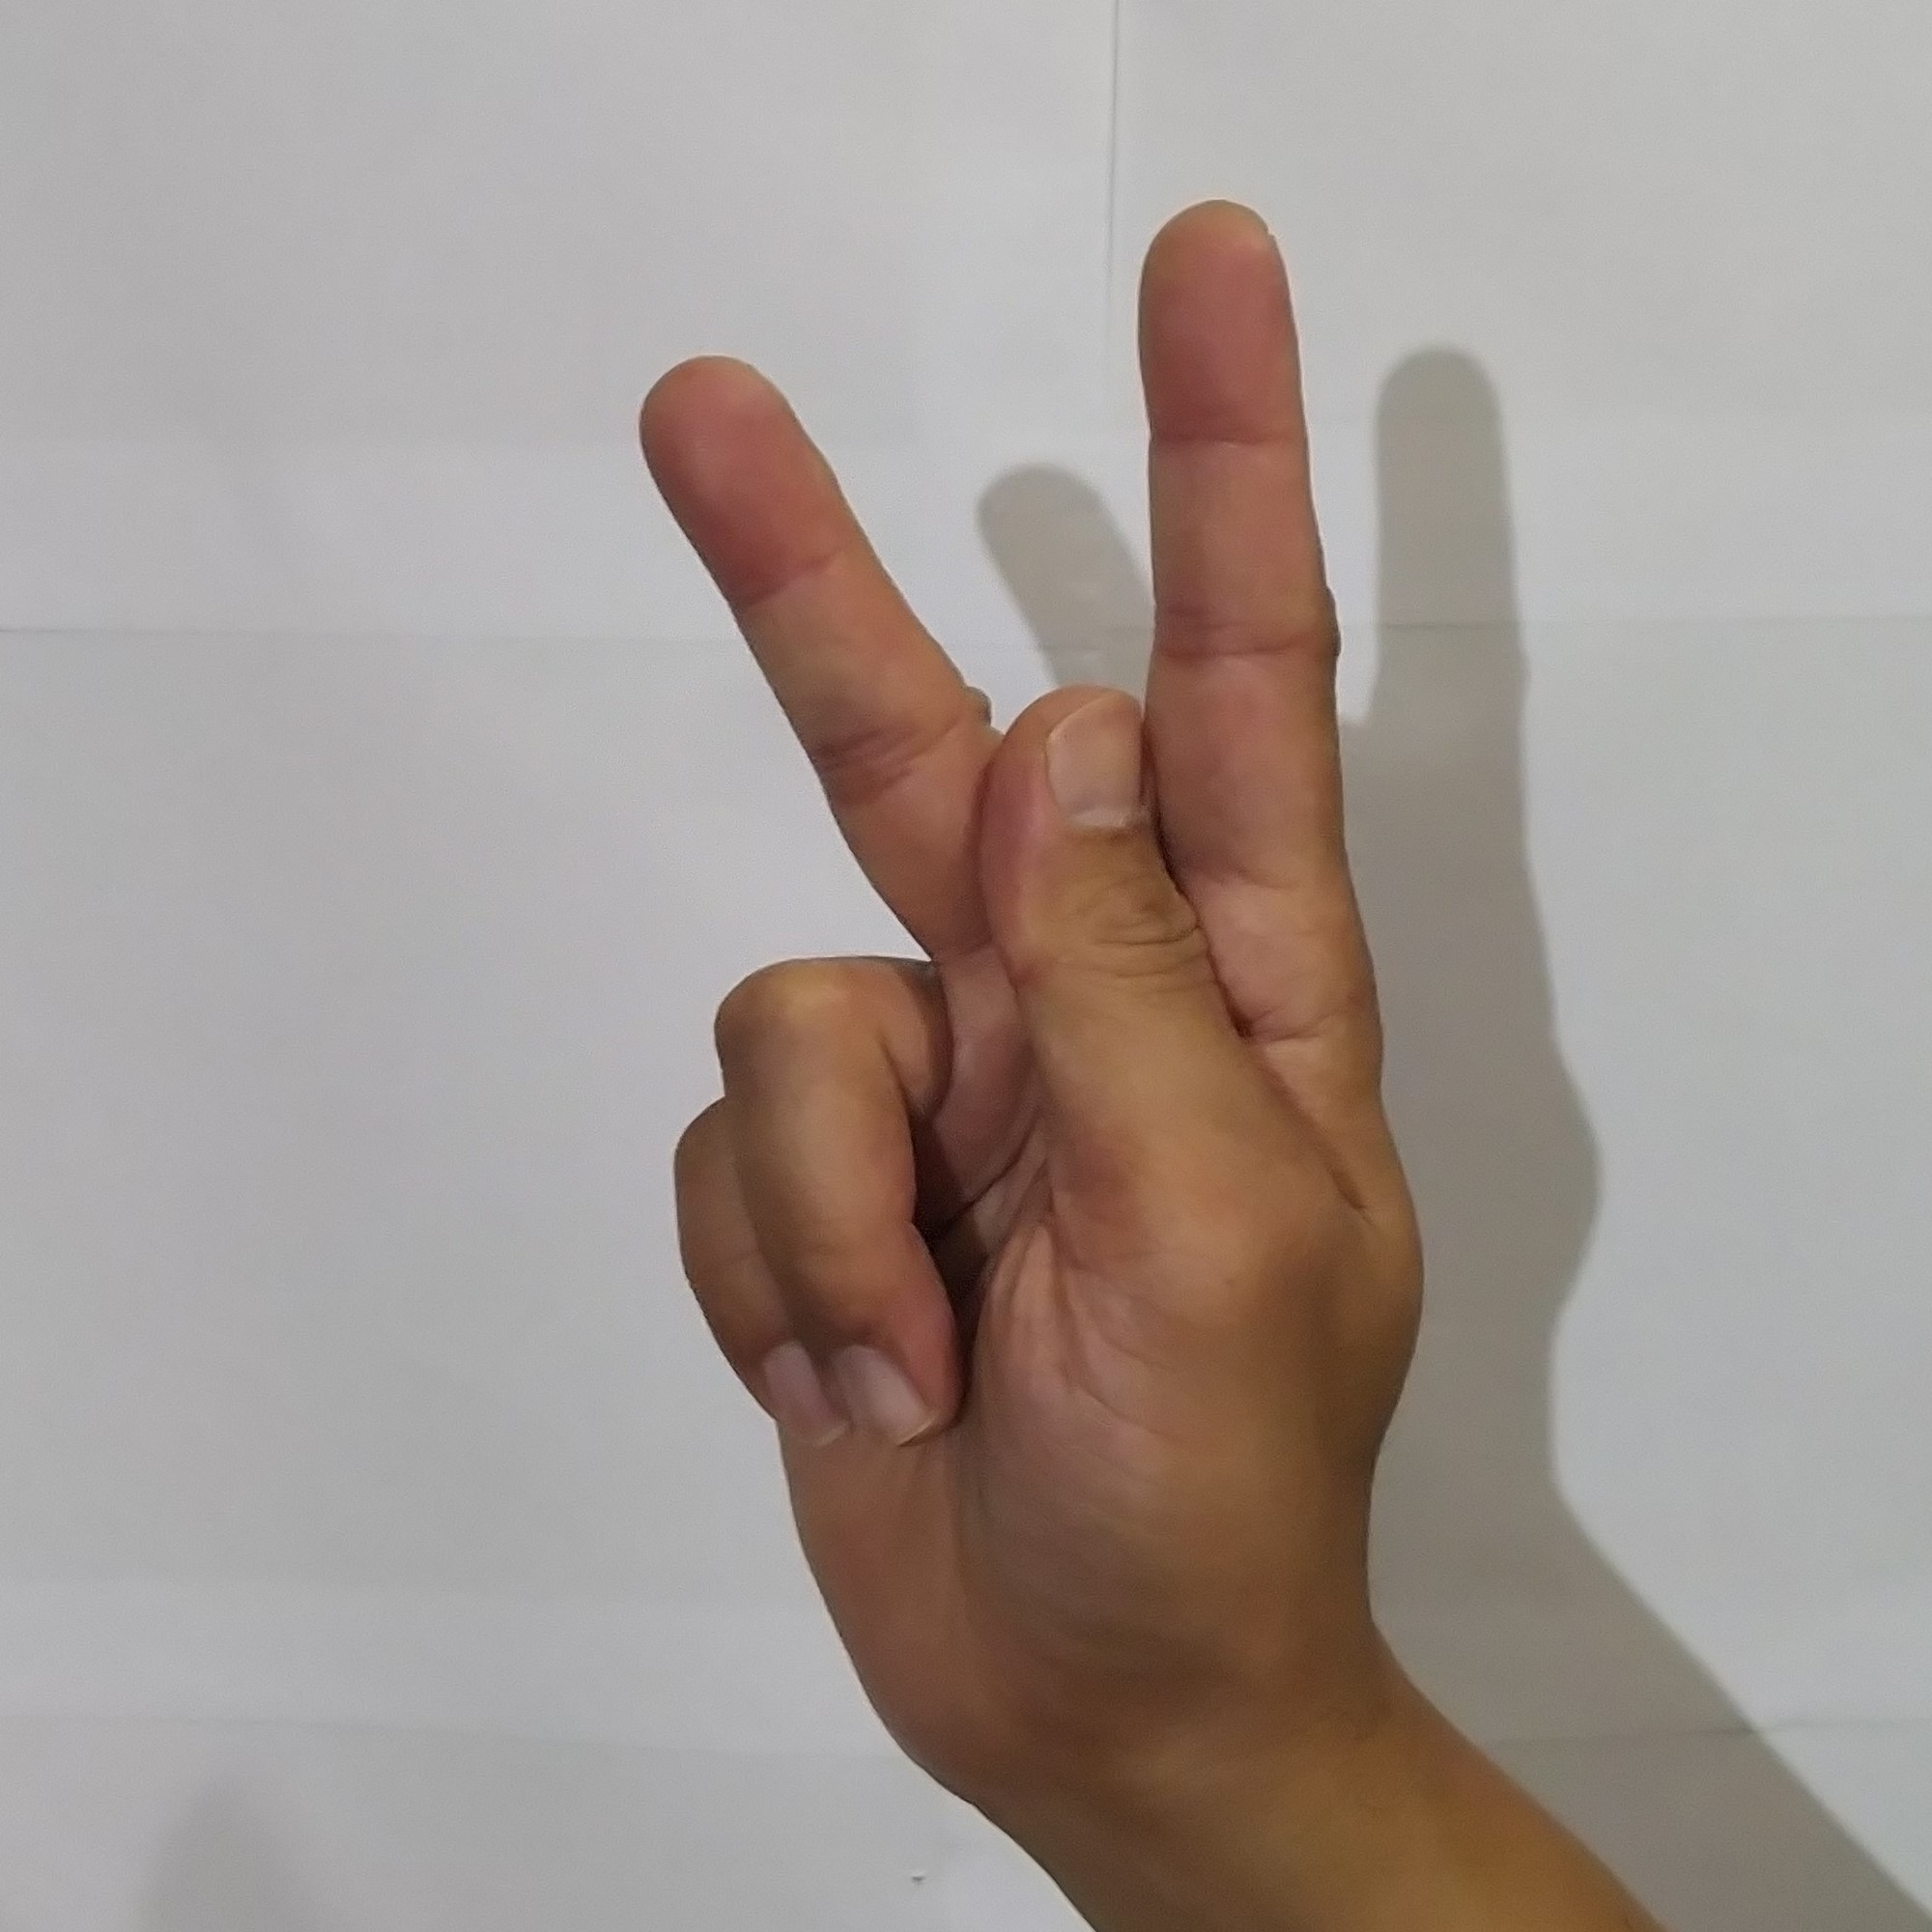K: (610, 172, 1453, 1752)
